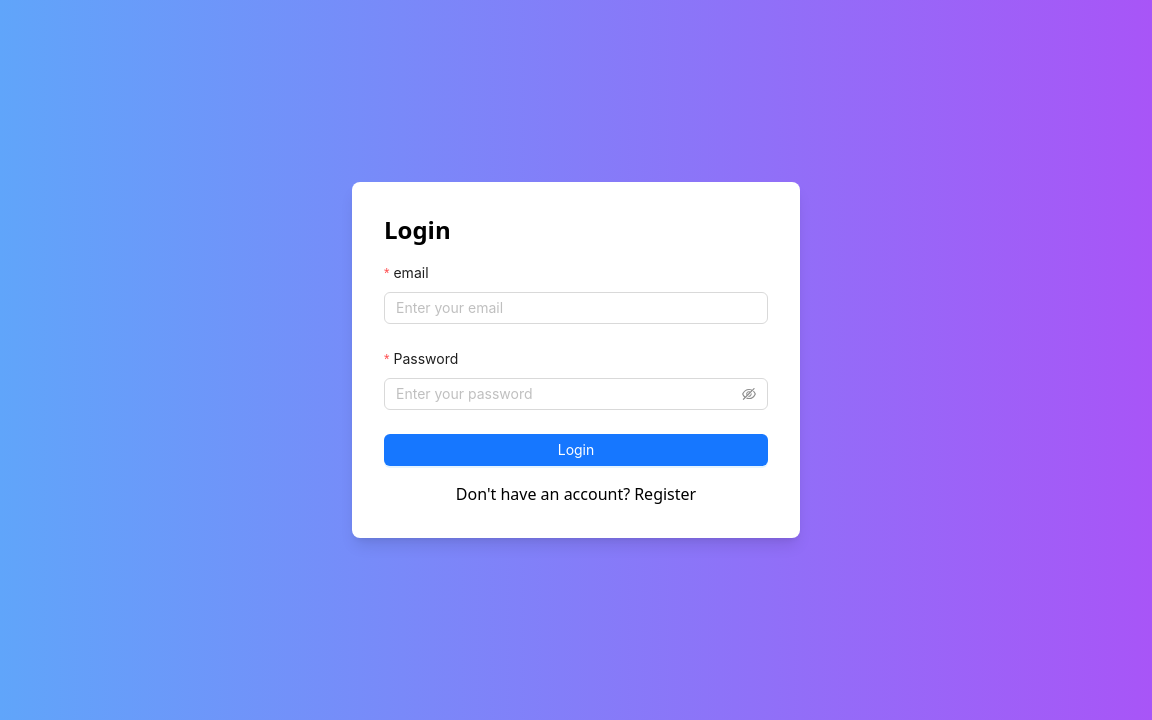
it: LoginRegister Component › should toggle to Register mode when clicked on 'Register'
# Click on the 'Register' link
What coordinates should you click on to do the following:
click the text "Register"
I would click on:
 (665, 494)
Its box is [634,482,696,506].
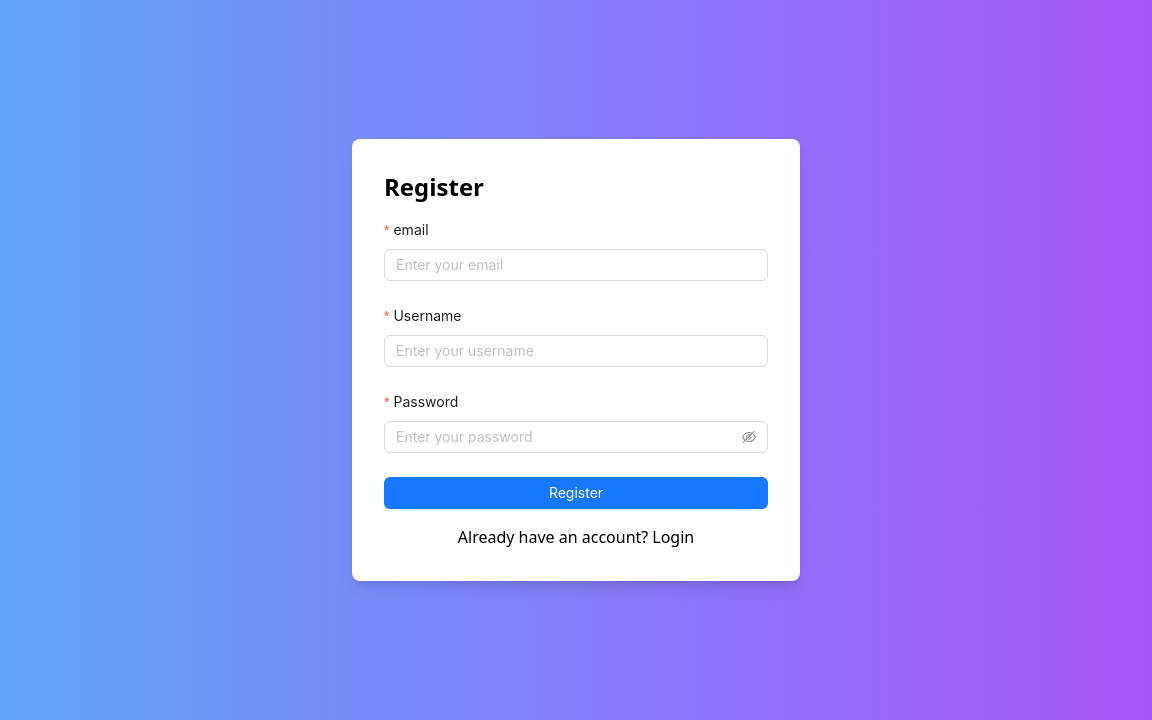
expect the heading "Register" is shown: met, box [384,170,484,203]
expect the field with placeholder "Enter your username" is shown: met, box [384,335,768,367]
